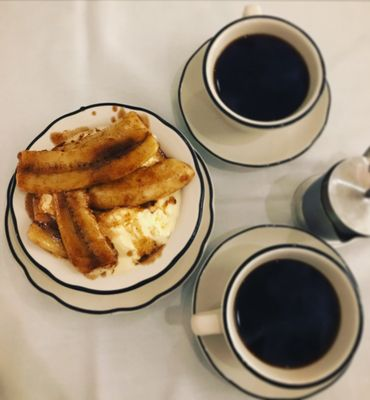pizza: (191, 225, 363, 391), (202, 15, 327, 130)
